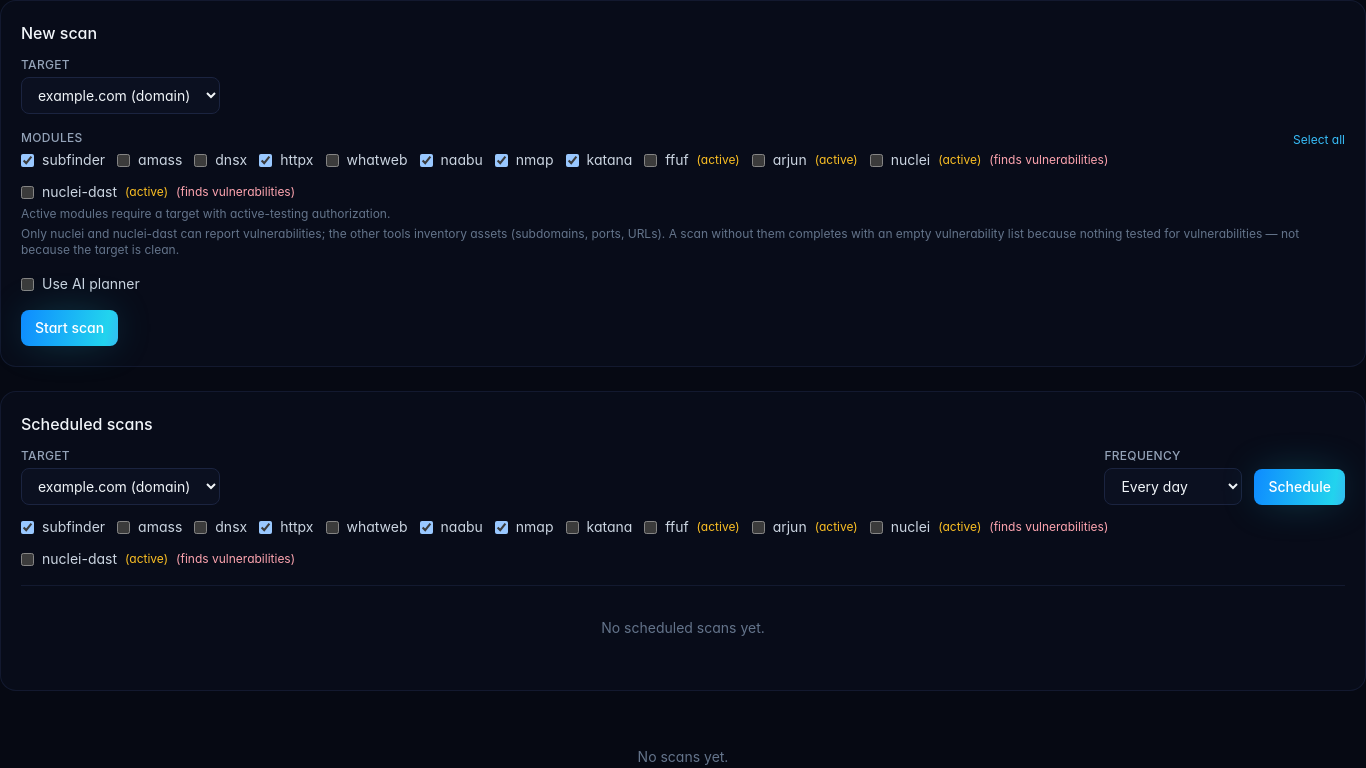
Test: ScansTab tool selection › returns to Select all when one tool is deselected after Select all
Expected: the checkbox labelled "subfinder" below "New scan" is shown, [21, 154, 34, 166]
Click the button "Select all" at (1319, 140), box [1293, 132, 1345, 148]
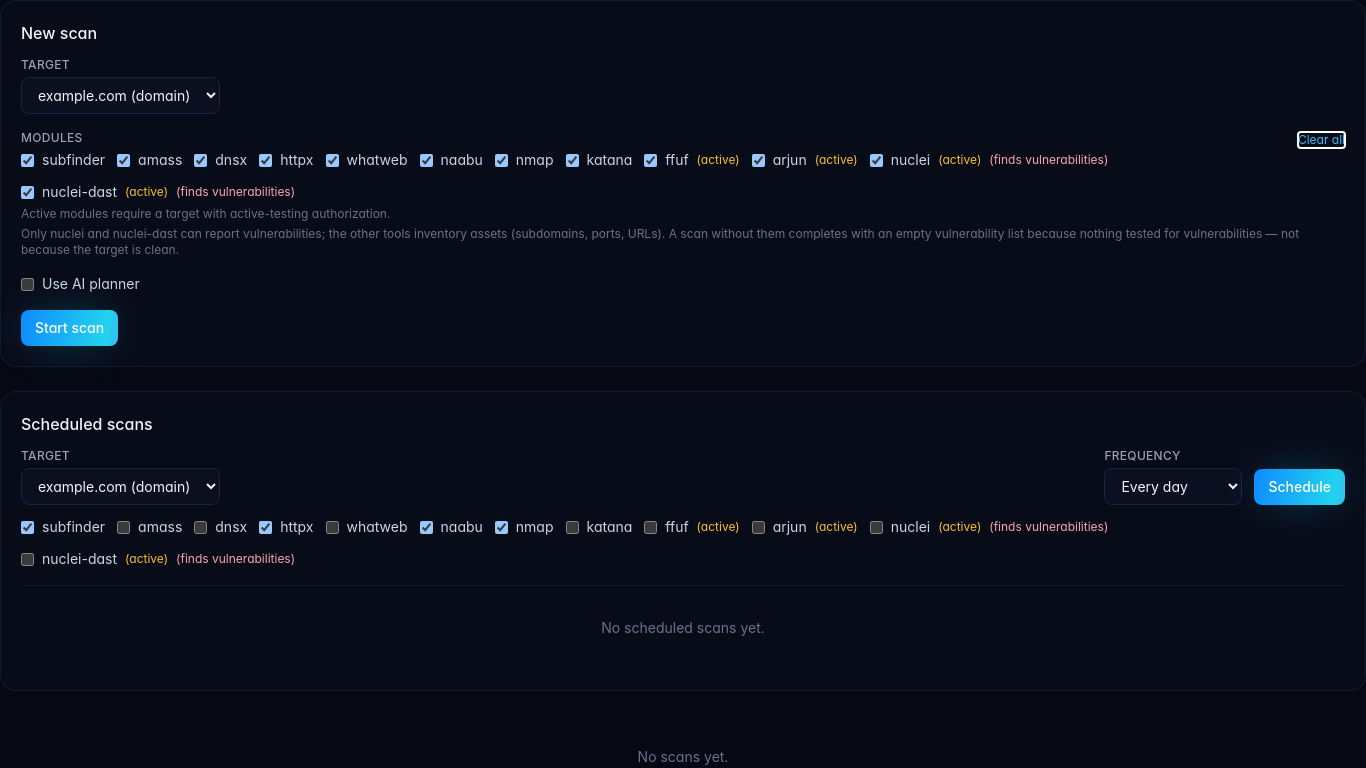
Now the button "Clear all" is shown, box [1298, 132, 1345, 148]
Click the 1st checkbox labelled "nmap" at (501, 160), box [495, 154, 508, 166]
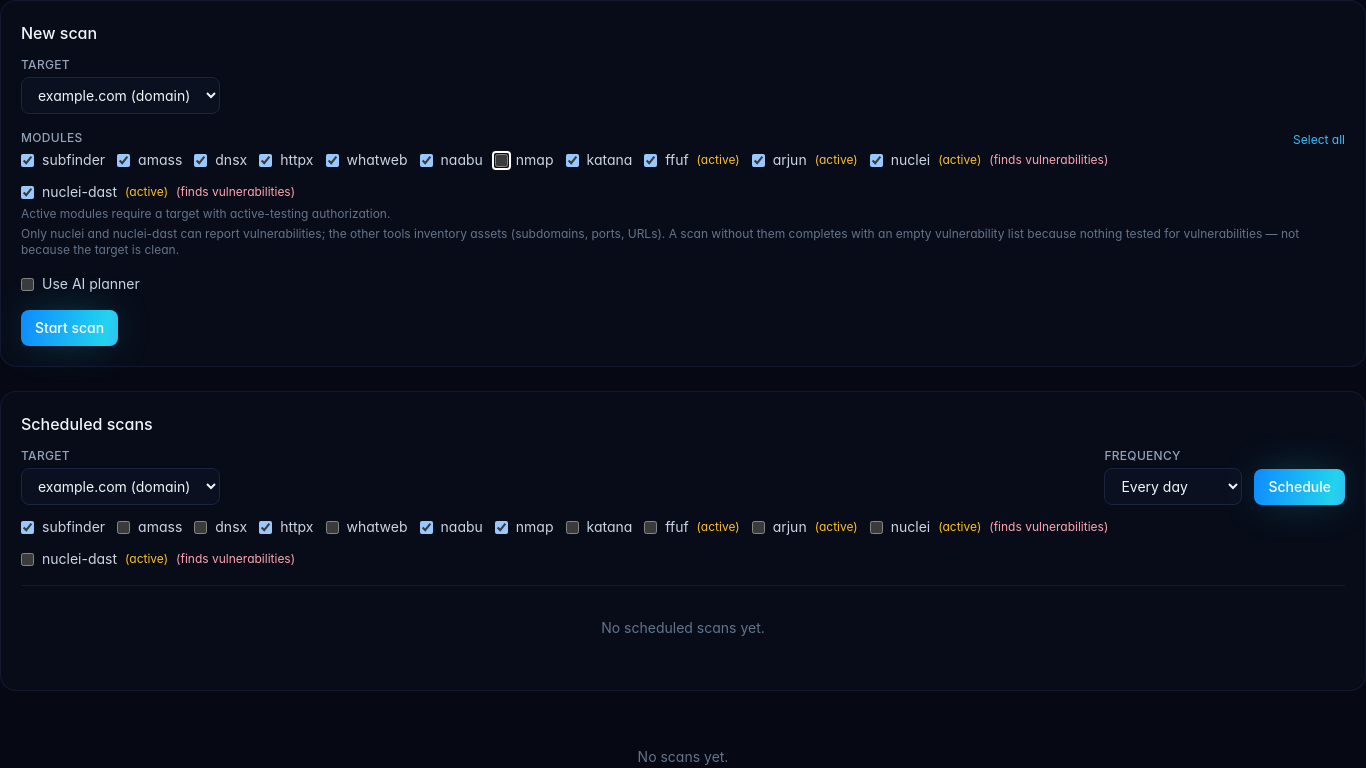
Now the 1st checkbox labelled "nmap" is not checked, box [495, 154, 508, 166]
Now the button "Select all" is shown, box [1293, 132, 1345, 148]
